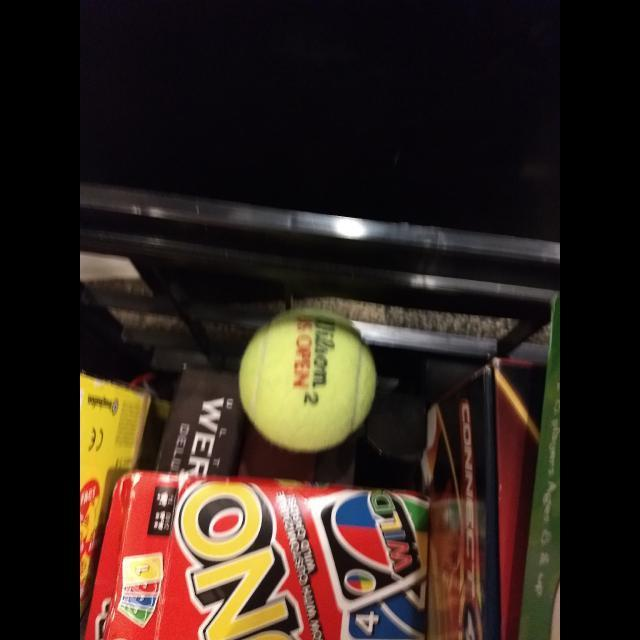tennis-ball: (238, 305, 378, 453)
